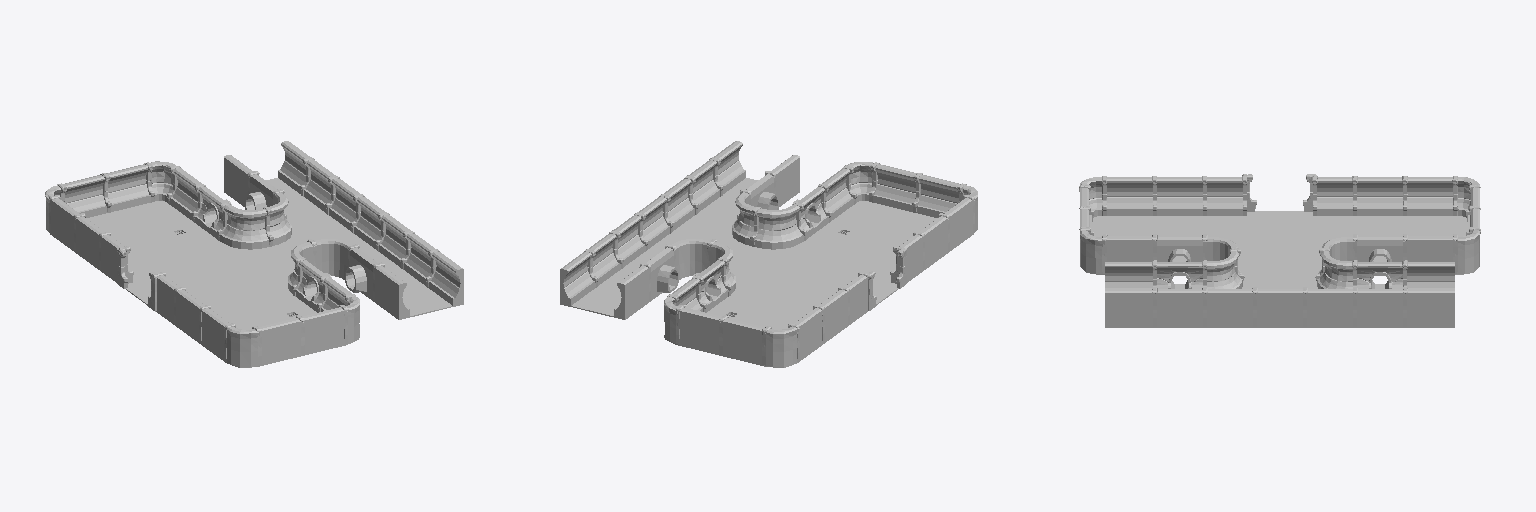
The model's file is DungeonRoom_05.obj.
3 views of the same model, side by side, from view 1: azimuth 30°, elevation 25°; view 2: azimuth 150°, elevation 25°; view 3: azimuth 270°, elevation 25° (orthographic).
Parts seen in each view (by area): view 1: DungeonRoom_05; view 2: DungeonRoom_05; view 3: DungeonRoom_05.
Part boxes in pixels (x1,y1,x2,y2): DungeonRoom_05: (45, 141, 463, 367); DungeonRoom_05: (560, 141, 977, 367); DungeonRoom_05: (1079, 174, 1480, 327).
Size of the model in its own units: 44.51 by 8.22 by 64.17.